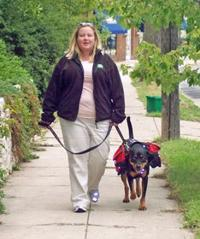person: (42, 24, 126, 212)
